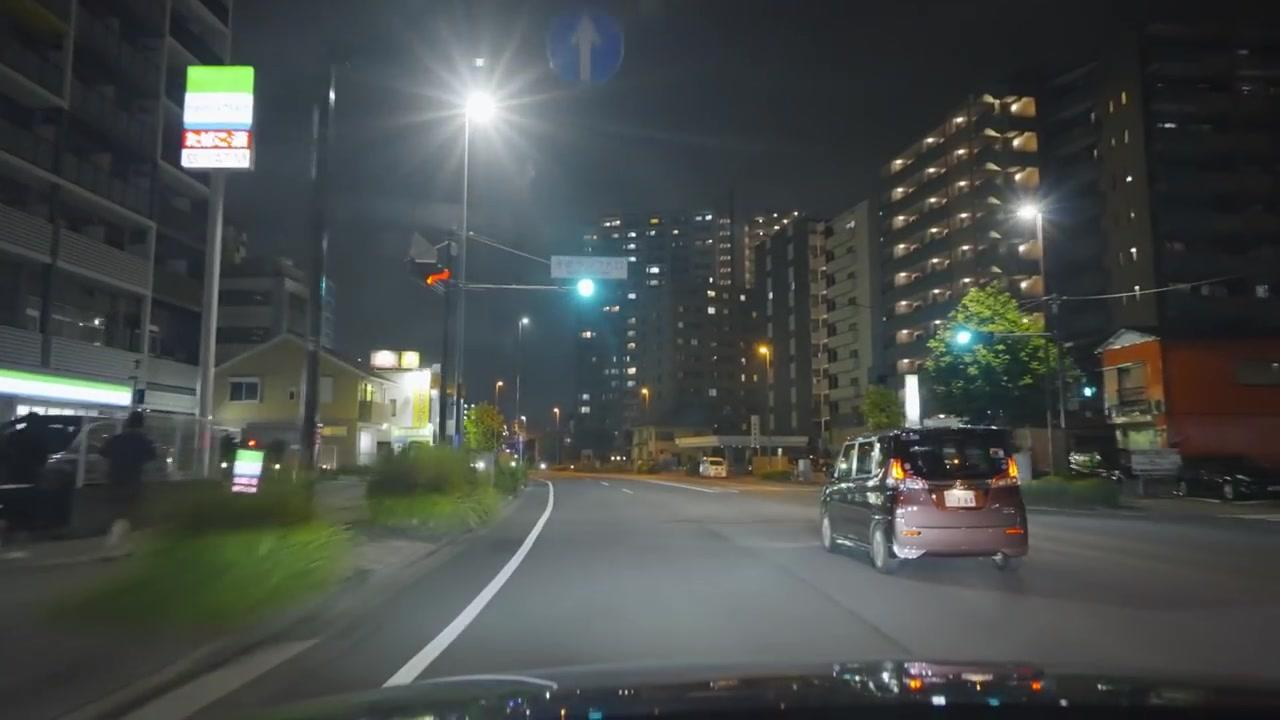car: (818, 427, 1029, 574), (697, 454, 728, 477)
person: (101, 409, 158, 536)
traffic light: (1016, 236, 1046, 300), (433, 240, 461, 285), (423, 252, 454, 287), (953, 326, 973, 351), (576, 278, 596, 301)
